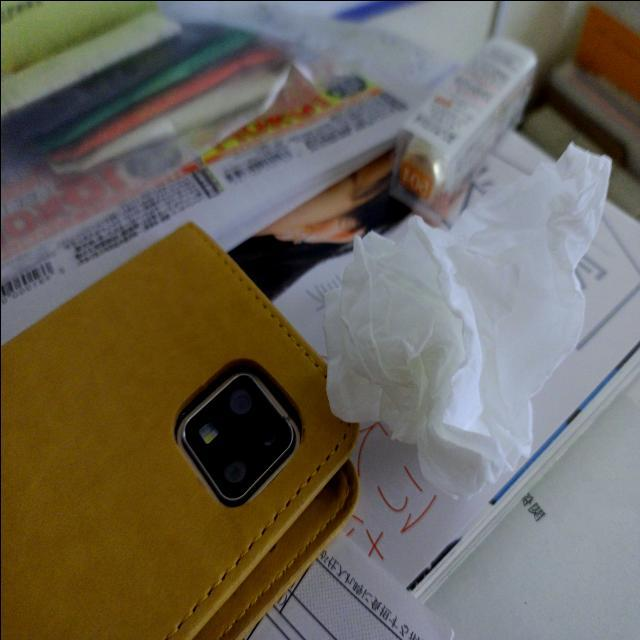Paper: (316, 139, 640, 503)
